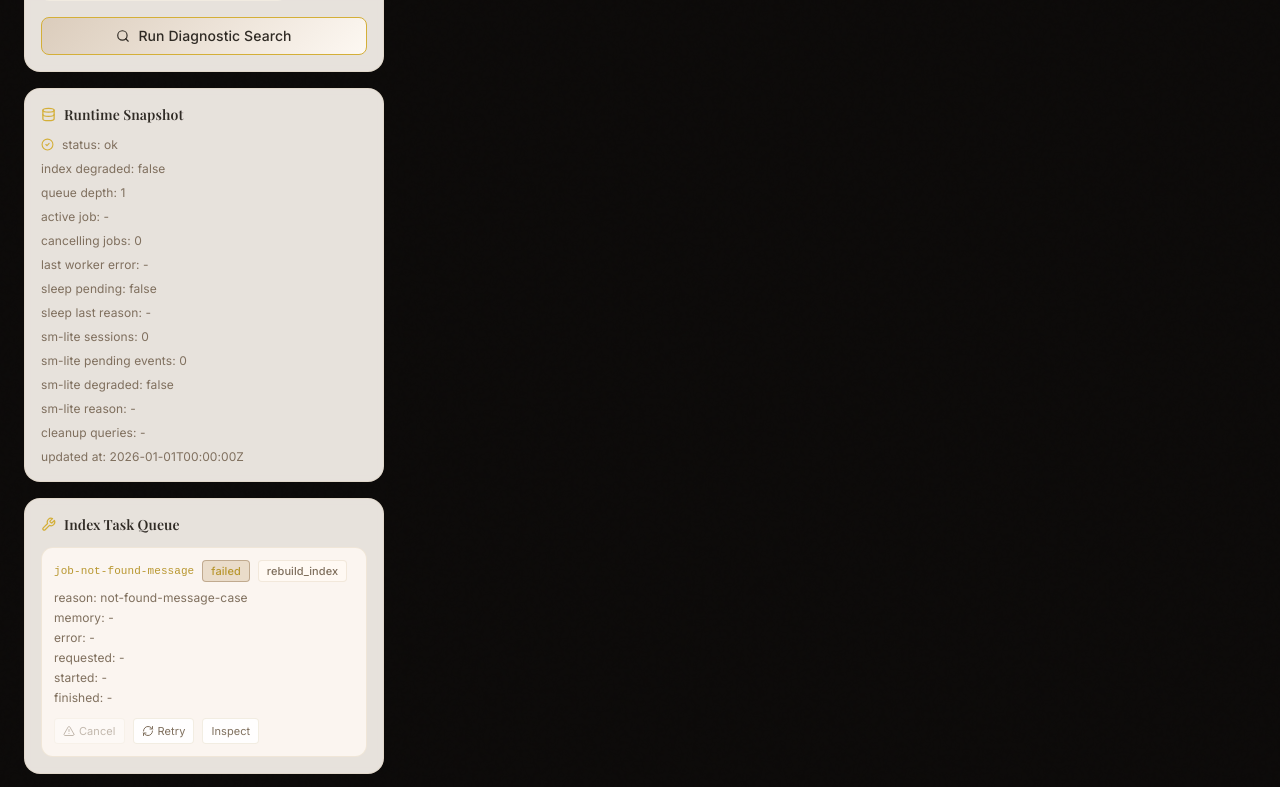
Test: ObservabilityPage › does not fallback when 404 detail message reports job not found
(page scrolled)
Expected: the text "job-not-found-message" is shown, [54,564,194,576]
Step 1. Click the button "Retry" → (164, 730), box [133,718,194,744]
(page scrolled)
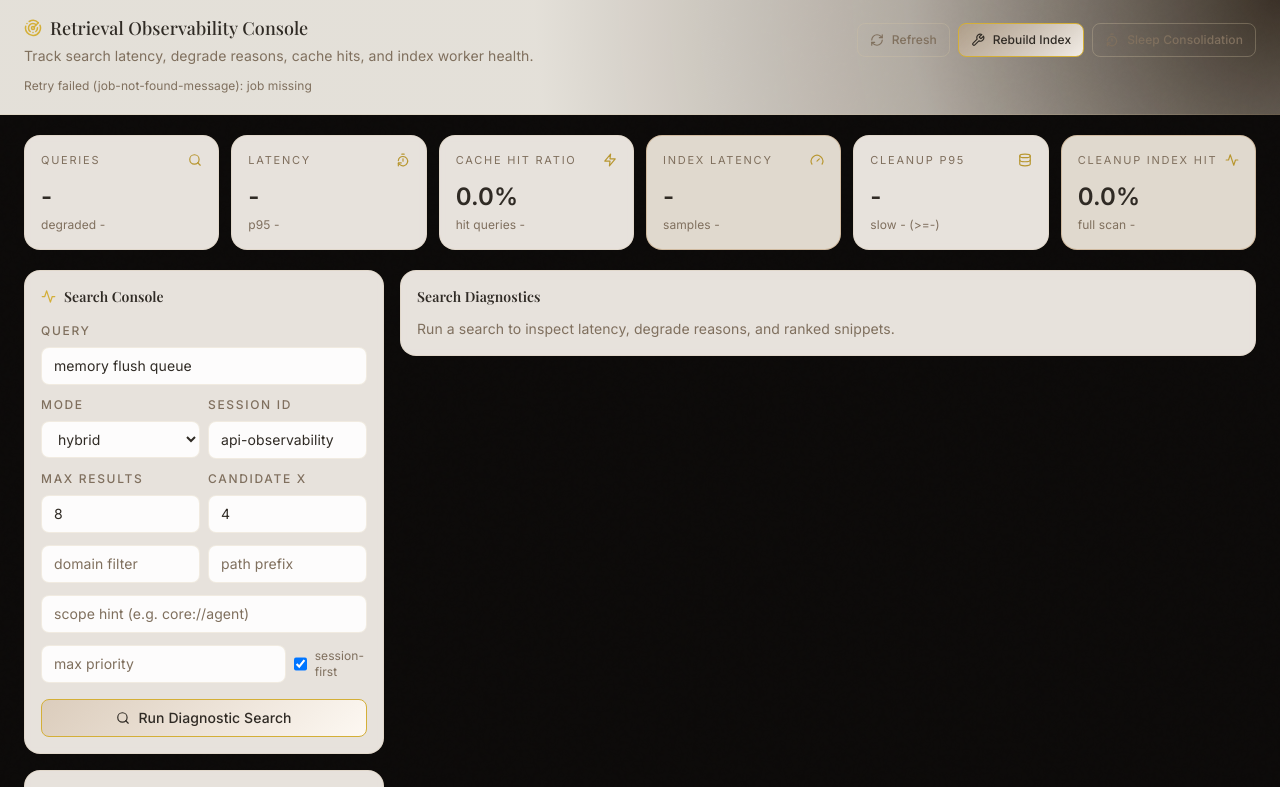
Result: the text "Retry failed (job-not-found-message): job missing" is shown at [24,78,312,93]
